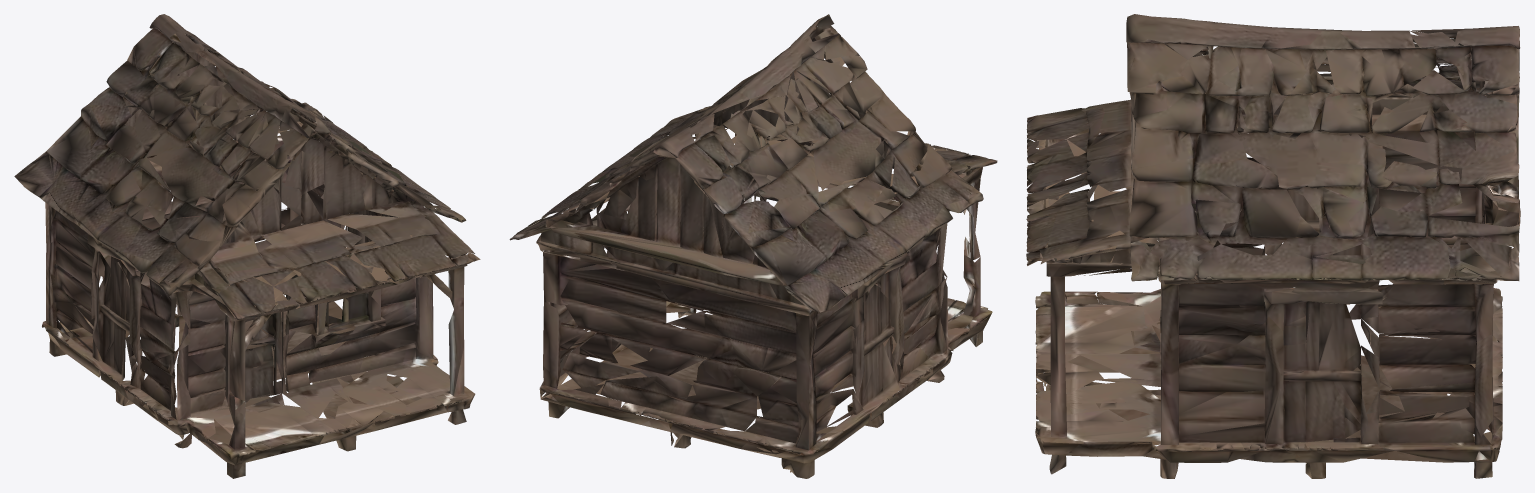
File: oldcabin.glb
3 views of the same model, side by side, from view 1: azimuth 30°, elevation 25°; view 2: azimuth 150°, elevation 25°; view 3: azimuth 270°, elevation 25° (orthographic). The views are drawn at different scales.
Parts seen in each view (by area): view 1: model; view 2: model; view 3: model.
Part boxes in pixels (<box>): model: <box>14,14,480,478</box>; model: <box>509,14,997,478</box>; model: <box>1026,14,1520,478</box>.
Size of the model in its own units: 20.71 by 20.47 by 23.65.
Materials: 1 (1 with a texture image).
